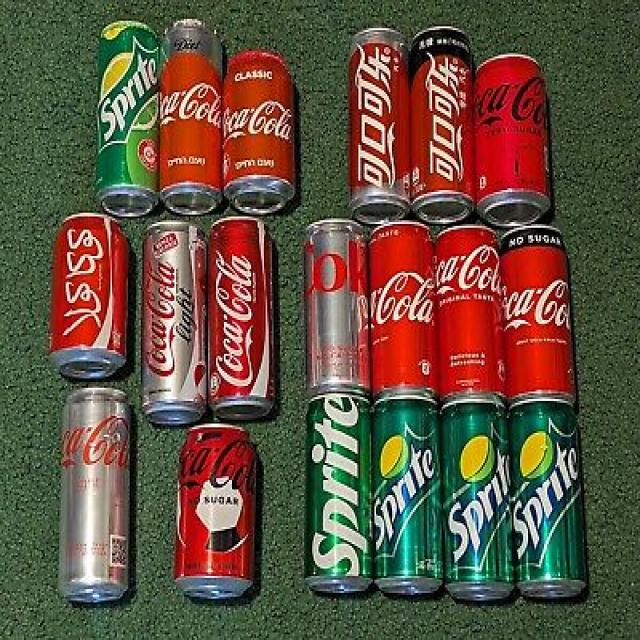soda_can: (504, 402, 602, 620), (212, 216, 298, 429), (141, 200, 213, 438), (491, 226, 586, 406), (175, 416, 263, 610), (53, 385, 132, 596), (406, 10, 478, 238), (375, 385, 443, 622), (447, 390, 521, 604), (50, 192, 132, 384), (468, 37, 550, 227), (224, 37, 310, 213), (303, 394, 375, 602), (344, 20, 418, 206), (436, 208, 507, 393), (370, 205, 435, 397), (91, 19, 154, 214), (296, 225, 369, 392), (160, 13, 221, 211)
